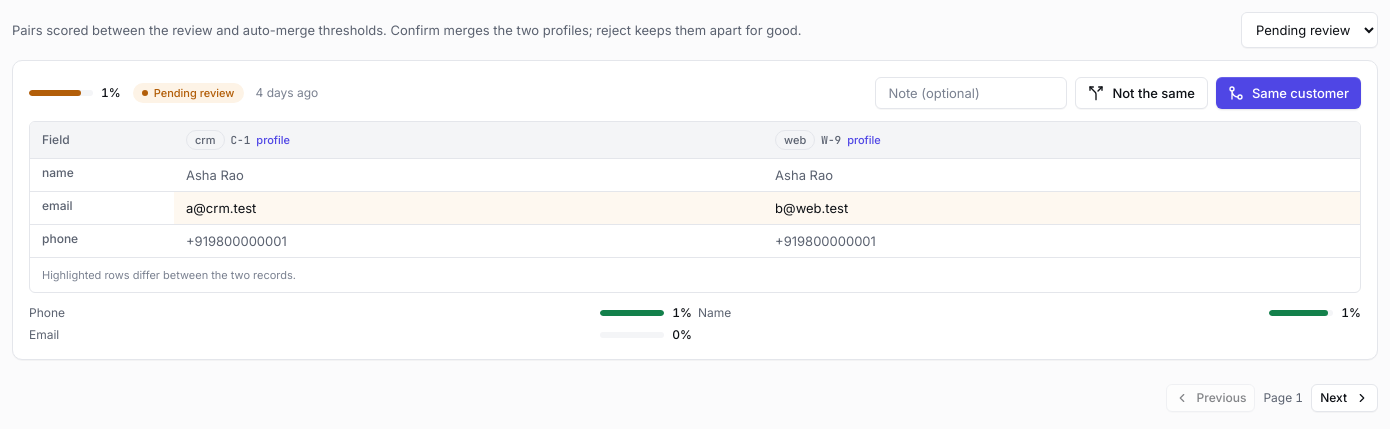
Test: Customer 360 review queue › pages through the queue with the server cursor
Expected: the text "a@crm.test" is shown, [174,192,763,224]
Click the button "Next" at (1345, 398), box [1311,384,1378,412]
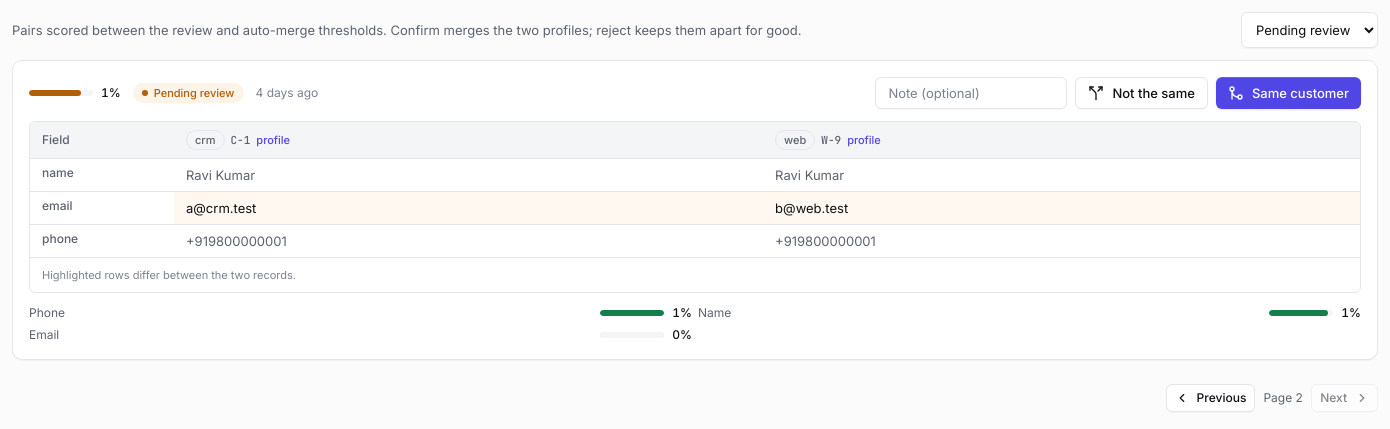
Now the text "Page 2" is shown, box [1263,390,1303,406]
